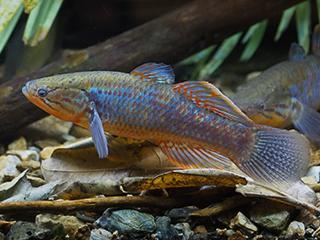Goby: (25, 62, 309, 189)
